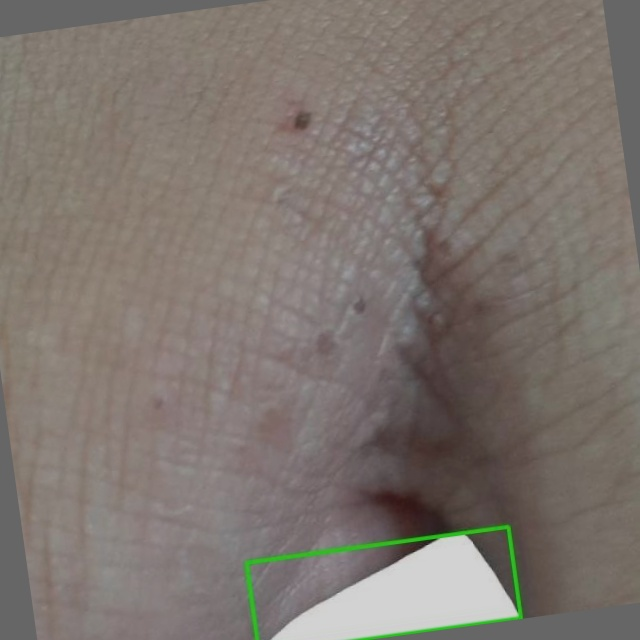Scabies: (245, 526, 519, 639)
